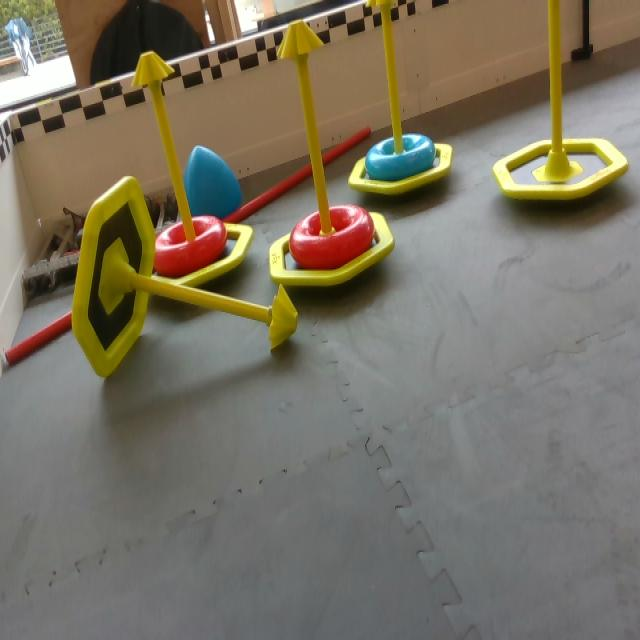Blue-Ring: (359, 134, 436, 186)
Mobile-Goal: (65, 169, 301, 378), (266, 19, 396, 290), (126, 49, 261, 290), (493, 0, 634, 204), (347, 0, 455, 204)
Red-Ring: (287, 205, 372, 267), (154, 213, 230, 278)
Yellow-Stake-Head: (277, 20, 325, 59), (270, 286, 299, 350), (131, 51, 175, 89), (366, 0, 398, 6)
